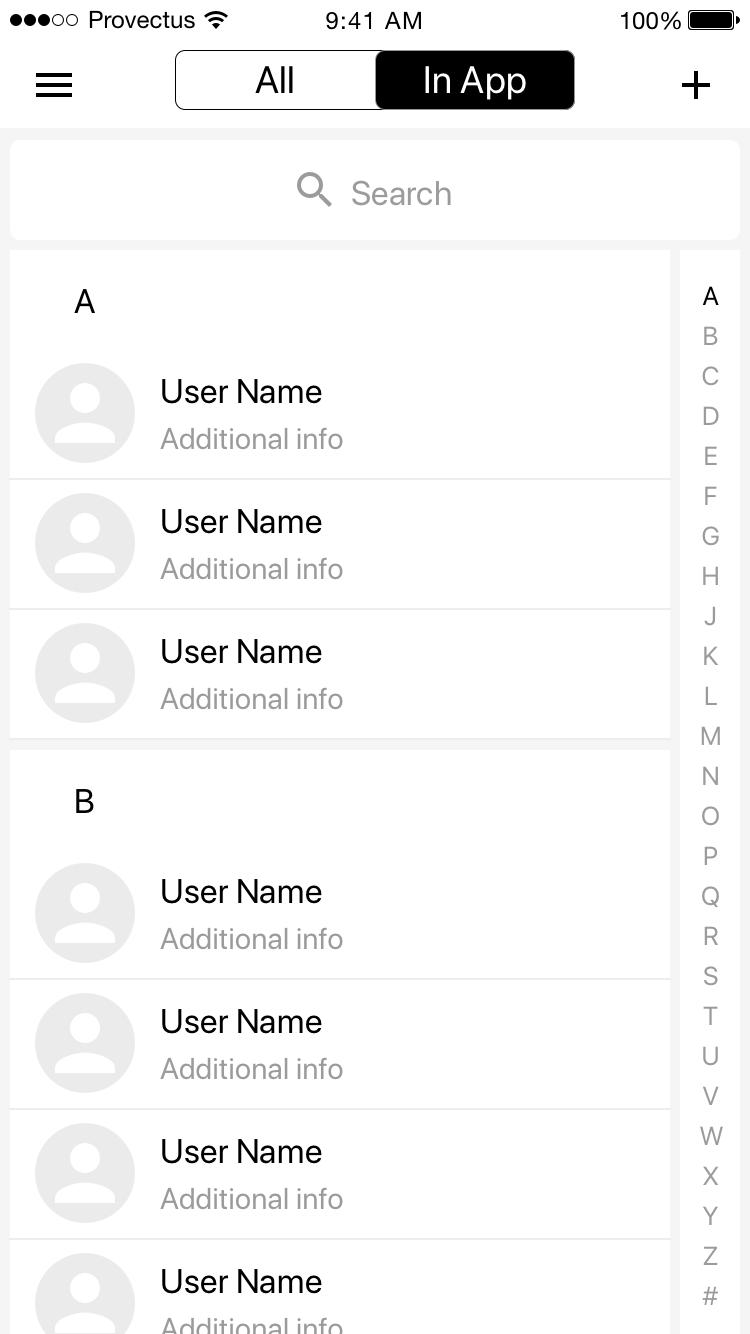EditText: (10, 140, 741, 242)
Icon: (35, 622, 137, 725), (35, 863, 137, 966), (35, 992, 137, 1094), (35, 1122, 137, 1224), (36, 493, 137, 595), (36, 364, 137, 463), (36, 1252, 137, 1334), (297, 171, 333, 209), (680, 71, 711, 101), (36, 74, 74, 98)
Text: (160, 557, 344, 581), (160, 926, 344, 950), (160, 1056, 344, 1080), (161, 878, 323, 905), (161, 687, 343, 711), (161, 508, 323, 534), (162, 1268, 324, 1294), (160, 428, 343, 451), (161, 1187, 344, 1210), (162, 379, 323, 405), (161, 638, 322, 664), (162, 1008, 323, 1034), (162, 1138, 322, 1164), (161, 1315, 344, 1334), (351, 181, 452, 207), (72, 286, 99, 318), (76, 789, 95, 814)
TextButton: (175, 50, 383, 111), (375, 50, 576, 111)
UpperTaskBar: (2, 1, 750, 32)
